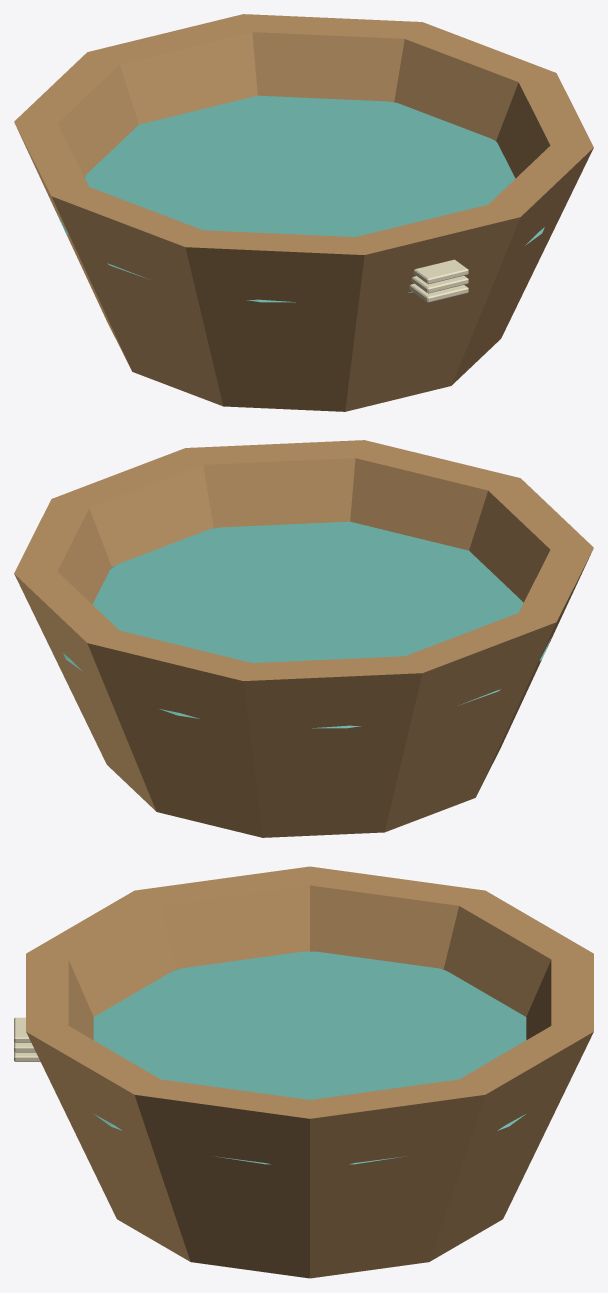
File: CC_Bathtub.fbx
The picture shows the model from 3 angles, top to bottom: view 1: azimuth 30°, elevation 25°; view 2: azimuth 150°, elevation 25°; view 3: azimuth 270°, elevation 25°; orthographic projection. The views are drawn at different scales.
Visible parts, largest first — view 1: Tub, Bath water, Fiber binding.044, Fiber binding.042, Fiber binding.043; view 2: Tub, Bath water; view 3: Tub, Bath water.
Boxes of the visible parts, x1,y1,x2,y2 form: Tub: (14,14,593,411); Bath water: (56,95,544,302); Fiber binding.044: (413,259,468,284); Fiber binding.042: (409,283,468,302); Fiber binding.043: (411,275,468,293); Tub: (14,440,593,837); Bath water: (63,521,551,728); Tub: (26,866,593,1278); Bath water: (93,951,526,1164).
Size of the model in its own units: 2.3 by 0.85 by 2.23.
